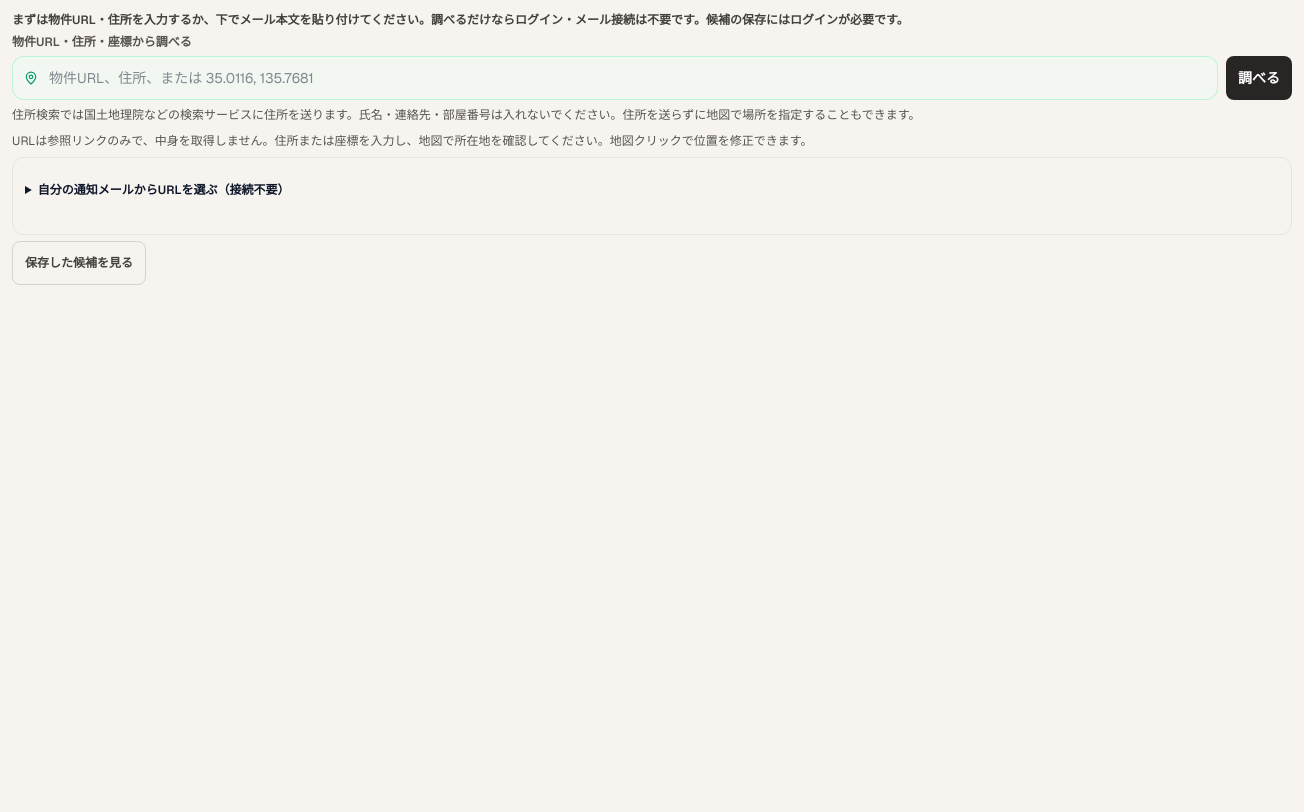
Test: listing candidate flow › email selection only fills the Phase 1 input and still requires location
Step 1. Click the heading "自分の通知メールからURLを選ぶ（接続不要）" → (164, 190), box left=38, top=182, right=289, bottom=198
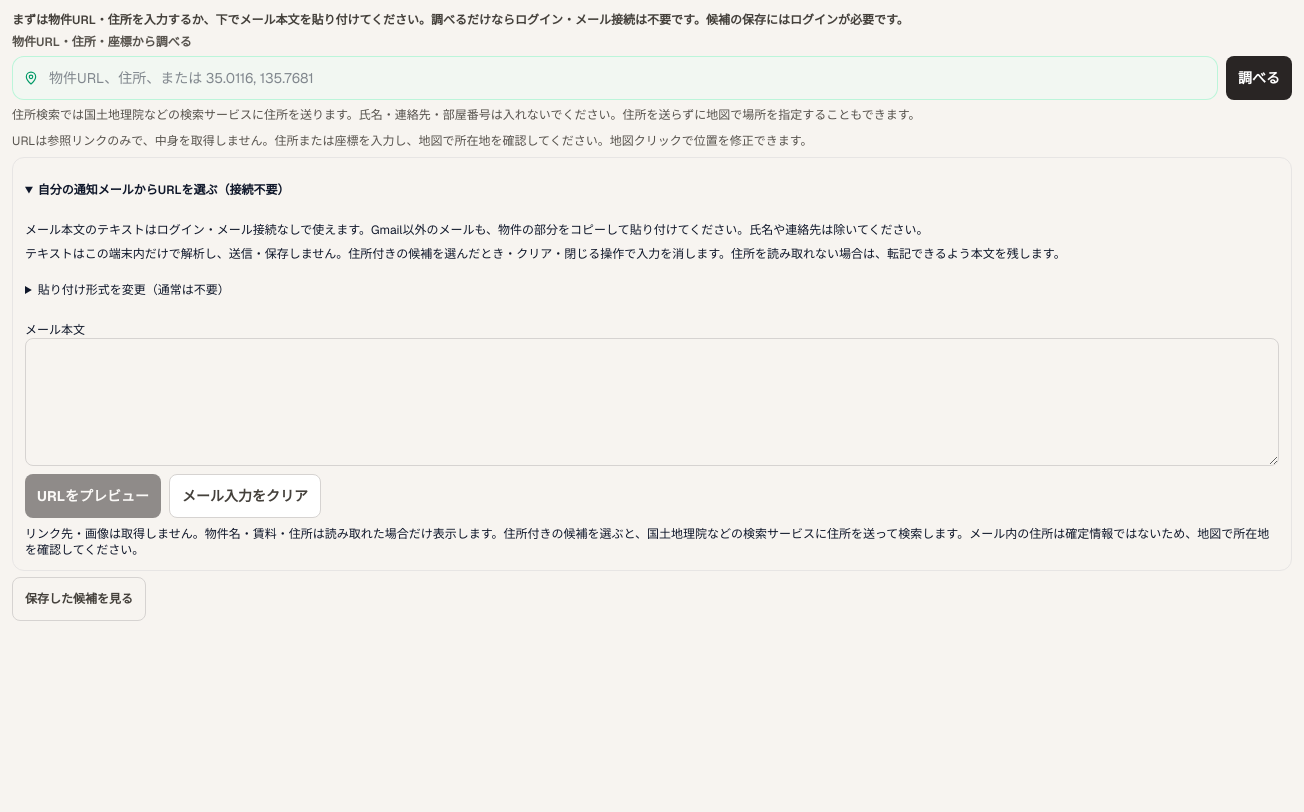
Step 2. Type "https://suumo.jp/a" into the text box labelled "メール本文" → (652, 402), box left=25, top=338, right=1279, bottom=466
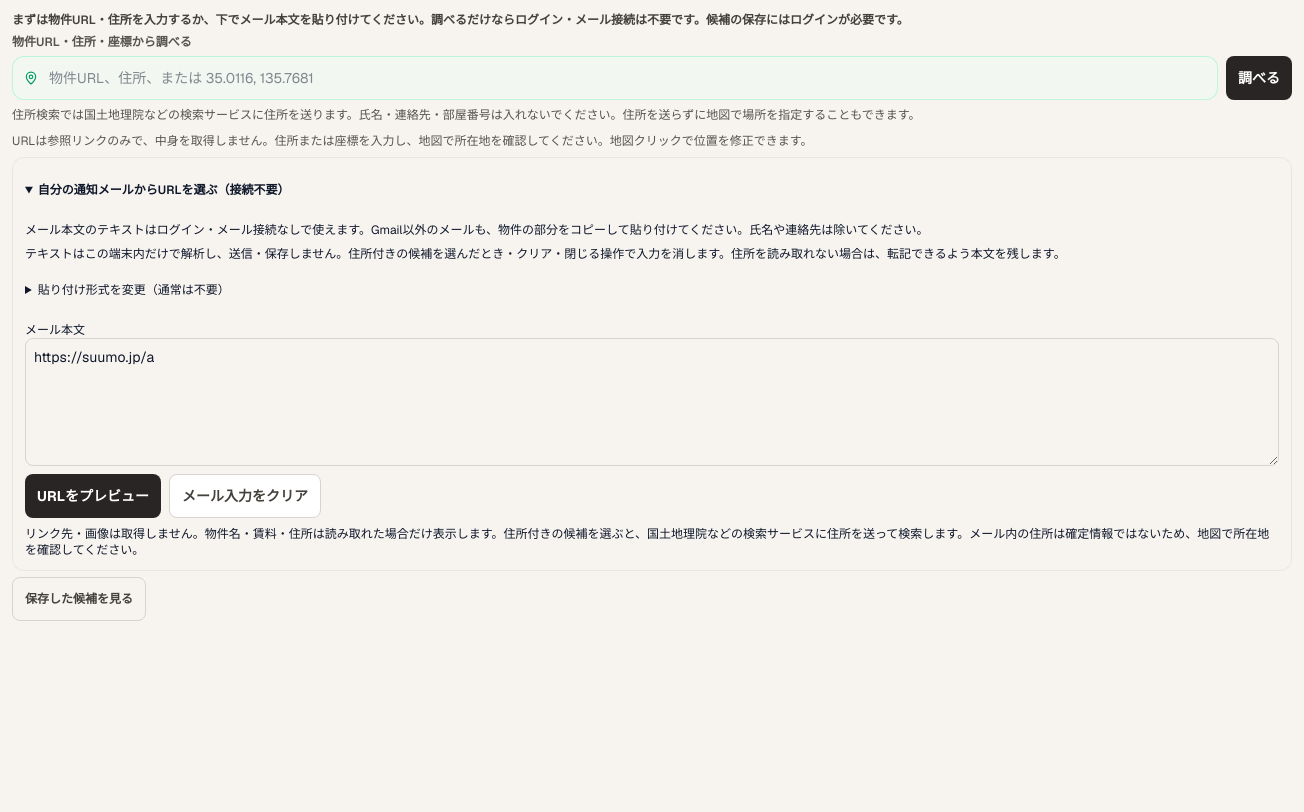
Step 3. Click the button "URLをプレビュー" → (93, 496), box left=25, top=474, right=161, bottom=518
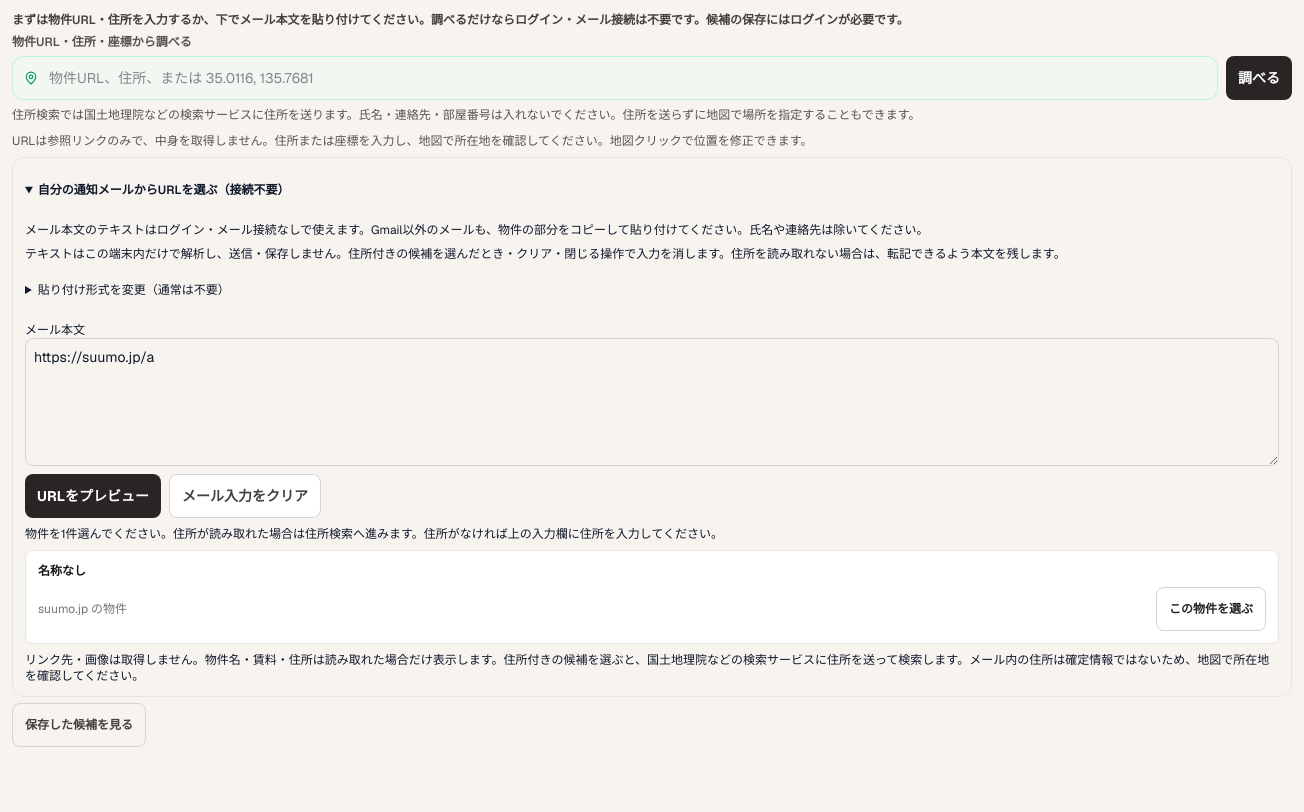
Step 4. Click the button named "https://suumo.jp/a：この物件を選ぶ" → (1211, 609), box left=1156, top=587, right=1266, bottom=631
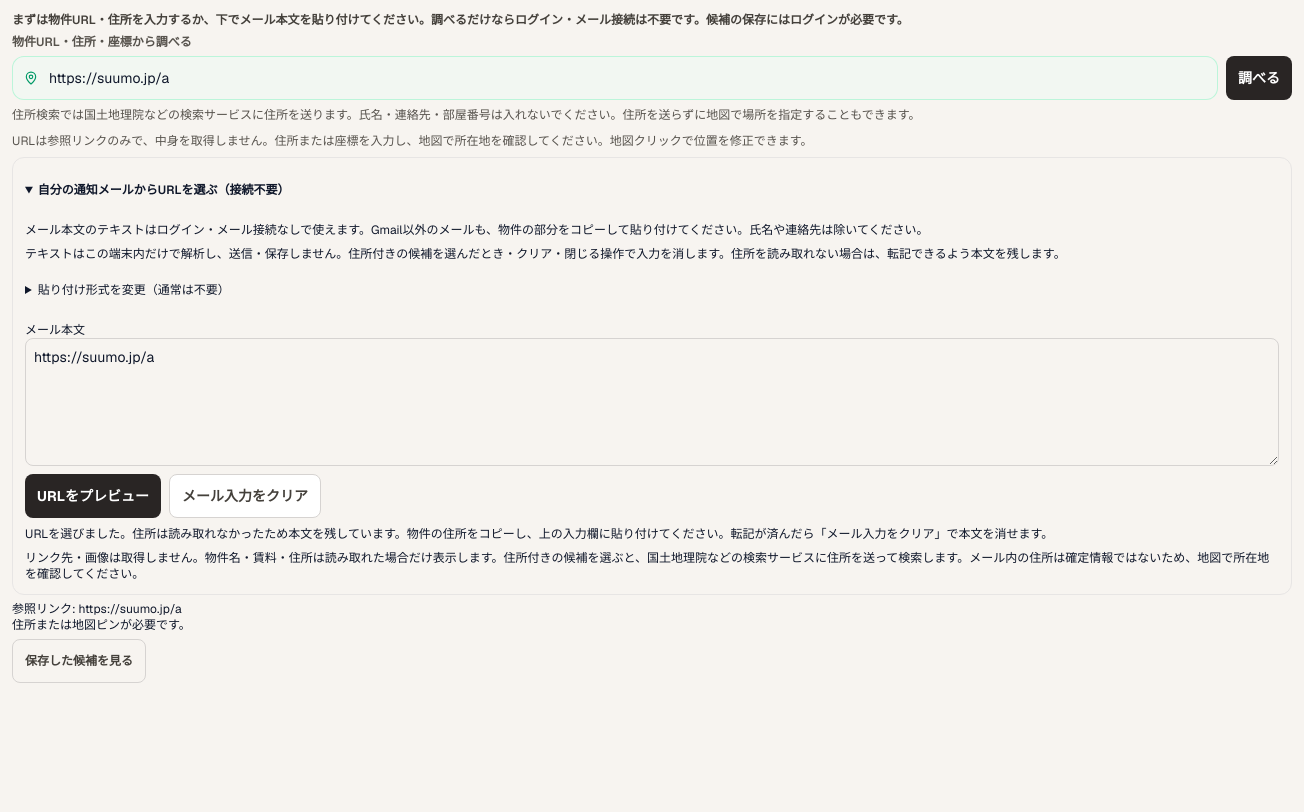
Expected: the field labelled "物件URL・住所・座標から調べる" holds "https://suumo.jp/a", left=12, top=56, right=1218, bottom=100
Step 5. Click the button "調べる" → (1259, 78), box left=1226, top=56, right=1292, bottom=100
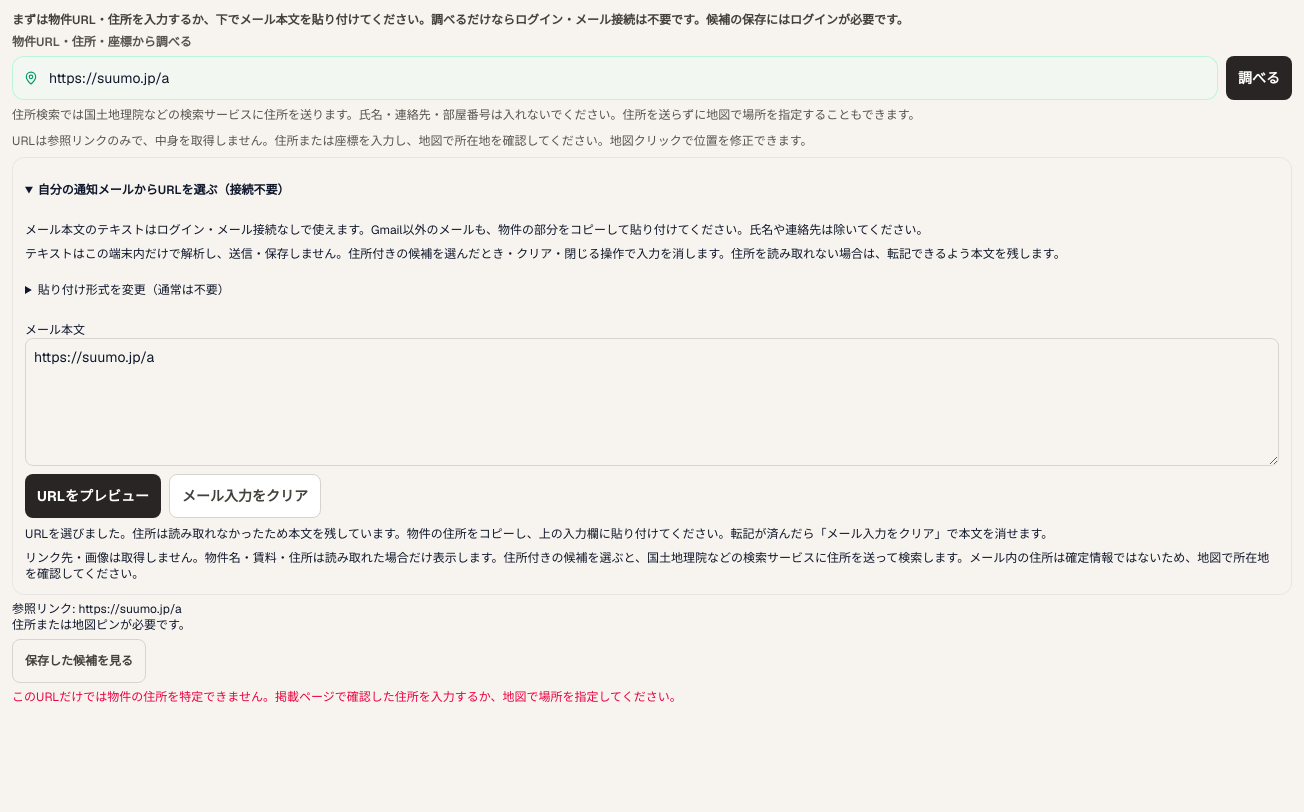
Expected: the text "このURLだけでは物件の住所を特定できません。掲載ページで確認した住所を入力するか、地図で場所を指定してください。" is shown, left=12, top=689, right=682, bottom=705
